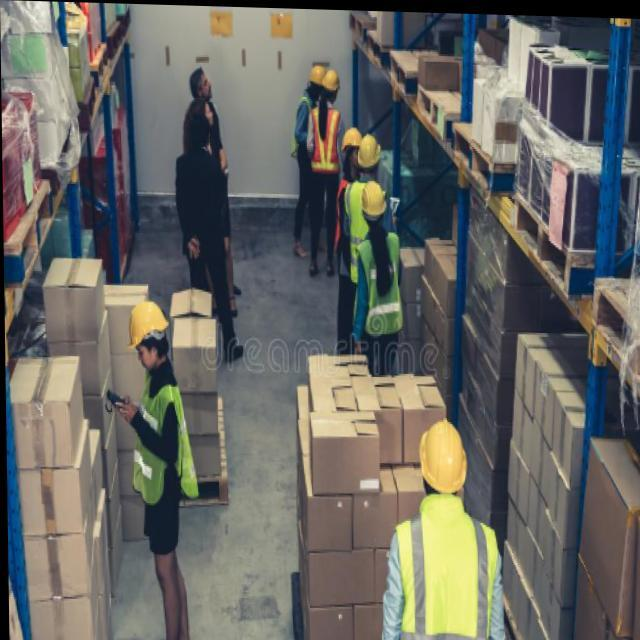helmet: (416, 416, 469, 498), (123, 300, 170, 367), (359, 181, 388, 233), (356, 132, 383, 177), (340, 124, 364, 165), (321, 68, 344, 104), (308, 64, 327, 98)
vest: (392, 490, 501, 640), (130, 367, 201, 507), (353, 231, 407, 338), (345, 183, 391, 289), (333, 179, 367, 282), (309, 105, 343, 179), (291, 94, 317, 161)
